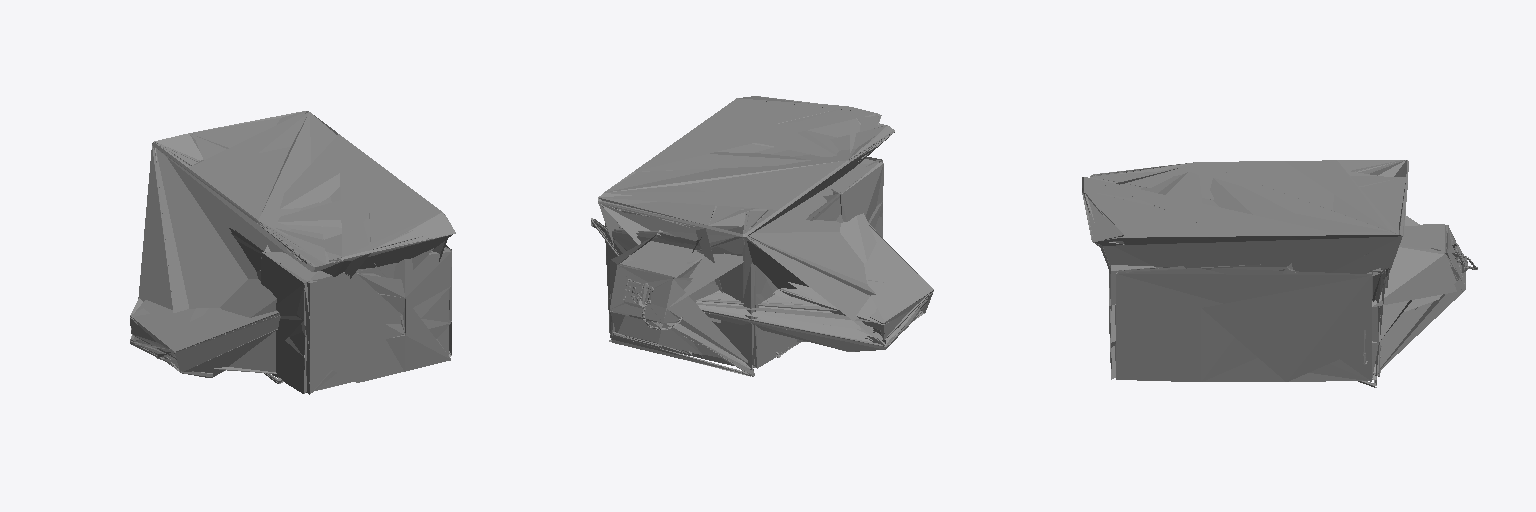
Rendered from resycler.obj.
3 views of the same model, side by side, from view 1: azimuth 30°, elevation 25°; view 2: azimuth 150°, elevation 25°; view 3: azimuth 270°, elevation 25° (orthographic).
Visible parts, largest first — view 1: Pul_t, Bolts, Korpus, Karkas, Whell2, Button2, Whell1, Plastina; view 2: Pul_t, Bolts, Korpus, Karkas, Whell2, Whell1, Button2, Plastina; view 3: Karkas, Korpus, Bolts, Whell2, Pul_t, Button2, Plastina, Whell1.
Boxes of the visible parts, x1,y1,x2,y2 form: Pul_t: [130, 118, 455, 389]; Bolts: [130, 112, 451, 386]; Korpus: [152, 111, 455, 355]; Karkas: [130, 134, 451, 394]; Whell2: [130, 112, 449, 393]; Button2: [191, 111, 454, 266]; Whell1: [130, 145, 453, 392]; Plastina: [152, 115, 444, 271]; Pul_t: [598, 96, 933, 368]; Bolts: [591, 109, 933, 376]; Korpus: [598, 98, 892, 368]; Karkas: [598, 97, 928, 369]; Whell2: [604, 125, 932, 367]; Whell1: [600, 126, 931, 354]; Button2: [599, 100, 890, 209]; Plastina: [602, 115, 894, 242]; Karkas: [1083, 162, 1465, 381]; Korpus: [1082, 160, 1465, 381]; Bolts: [1083, 160, 1477, 387]; Whell2: [1082, 160, 1466, 381]; Pul_t: [1082, 160, 1477, 381]; Button2: [1084, 161, 1398, 241]; Plastina: [1082, 160, 1408, 245]; Whell1: [1082, 160, 1465, 379].
Bounding box in the file's own units: 45.56 × 27.33 × 63.16.